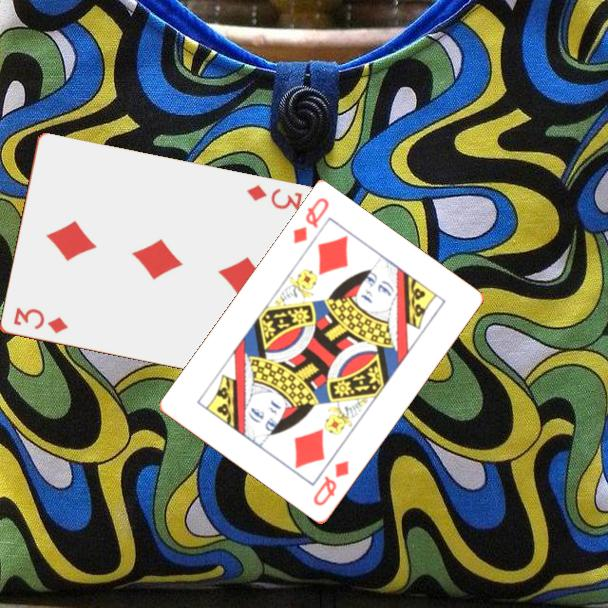d03: (9, 304, 71, 337), (243, 182, 305, 213)
d12: (289, 194, 332, 247), (310, 457, 352, 510)
